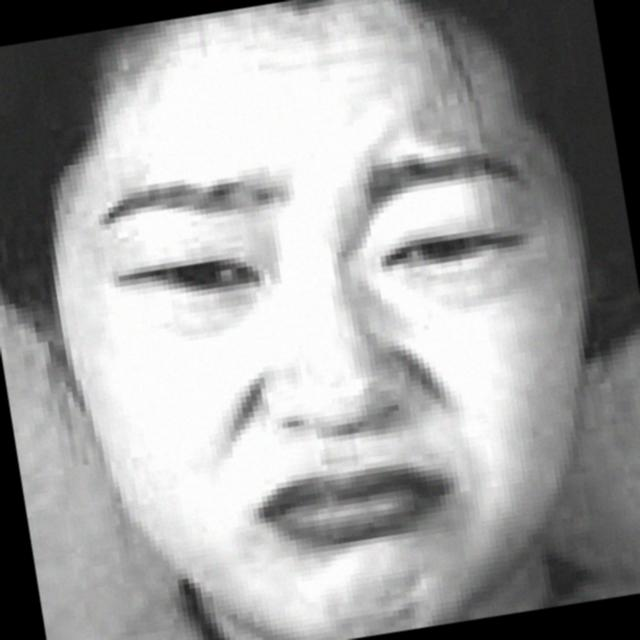disgust: (48, 43, 593, 640)
